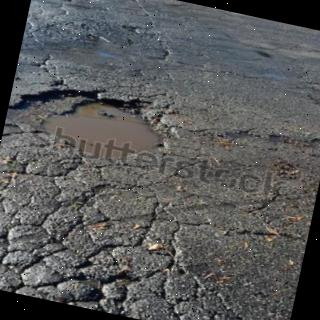pothole: (7, 88, 170, 157)
